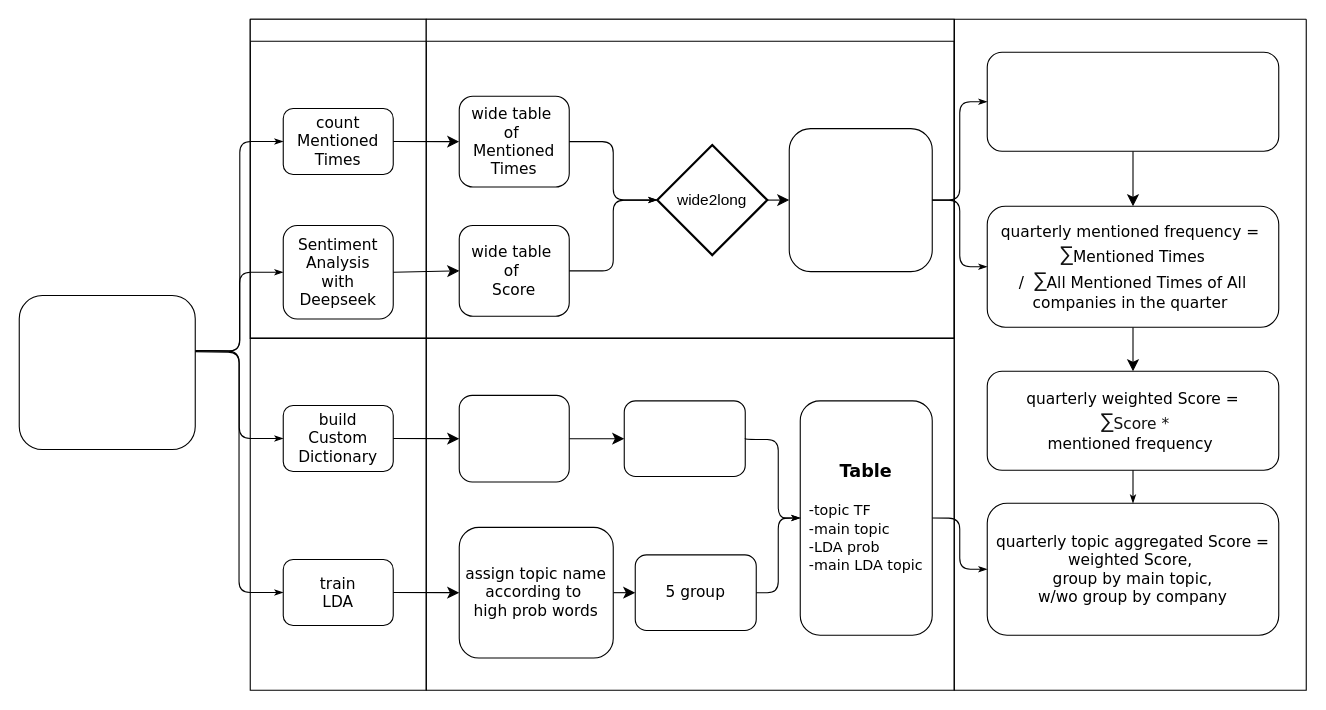
The diagram is 1326 pixels wide and 710 high, and some of its shapes have lost their labels. Each missing label, with the box of its shape:
6 group: (623, 400, 745, 477)
count Term Frequence: (458, 394, 569, 482)
Long Table - Score -Mentioned Times: (788, 127, 932, 272)
Method and Outcome: (425, 18, 954, 338)
News Data filtered by Tickers: (18, 294, 195, 450)
quarterly mean Score = mean( Score): (986, 51, 1279, 151)
Recursive Process: (249, 18, 426, 338)
